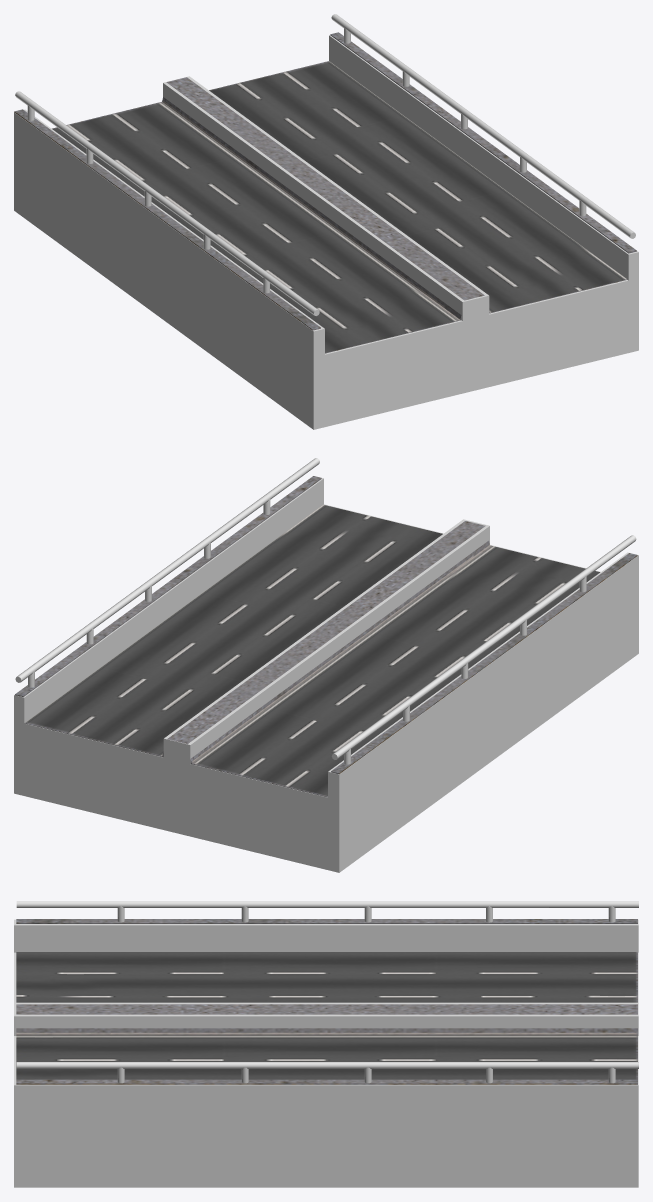
Rendered from HighwayStreet.FBX.
3 views of the same model, one above another, from view 1: azimuth 30°, elevation 25°; view 2: azimuth 150°, elevation 25°; view 3: azimuth 270°, elevation 25° (orthographic). The views are drawn at different scales.
Parts seen in each view (by area): view 1: highway, Collusionhighwaybox, Pole (×2); view 2: highway, Collusionhighwaybox, Pole (×2); view 3: Collusionhighwaybox, highway, Pole (×2).
Boxes of the visible parts, left/top/right/bottom form: highway: left=14, top=32, right=636, bottom=353; Collusionhighwaybox: left=14, top=35, right=638, bottom=429; Pole (×2): left=15, top=14, right=635, bottom=315; highway: left=15, top=476, right=637, bottom=797; Collusionhighwaybox: left=14, top=476, right=638, bottom=872; Pole (×2): left=15, top=458, right=636, bottom=759; Collusionhighwaybox: left=14, top=919, right=638, bottom=1187; highway: left=16, top=919, right=637, bottom=1084; Pole (×2): left=16, top=901, right=638, bottom=1068.
Bounding box in the file's own units: 9514 × 3304 × 15190.
